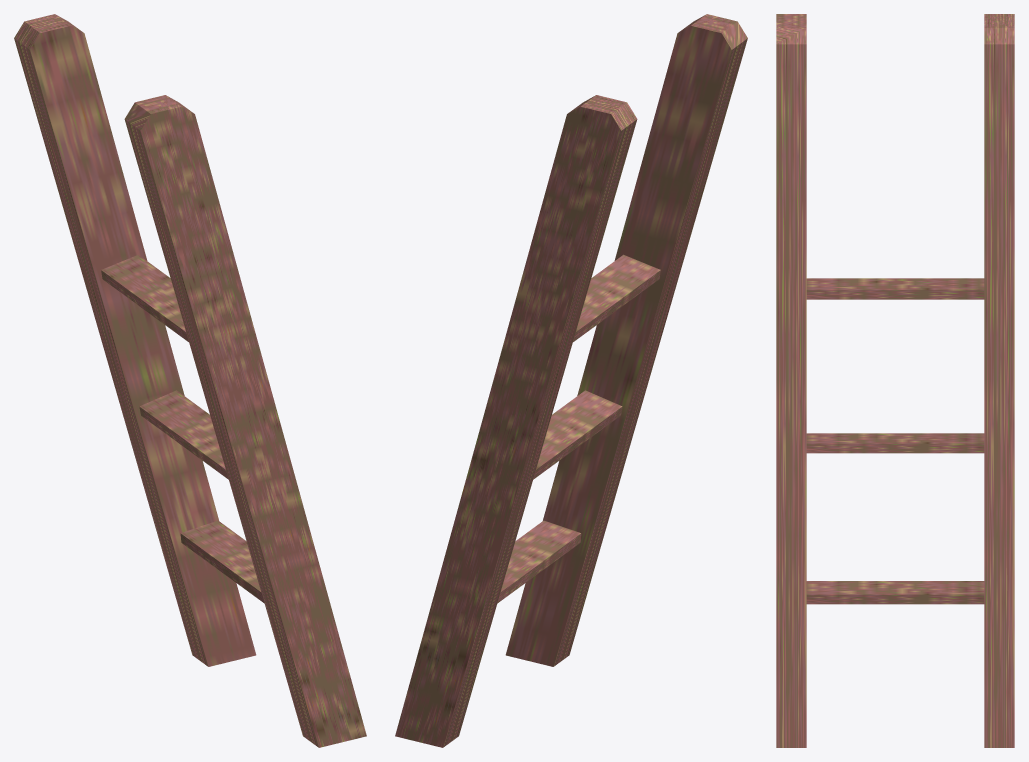
The model's file is LIbrarystairs.fbx.
The picture shows the model from 3 angles, left to right: view 1: azimuth 30°, elevation 25°; view 2: azimuth 150°, elevation 25°; view 3: azimuth 270°, elevation 25°; orthographic projection. The views are drawn at different scales.
Parts seen in each view (by area): view 1: pCube6; view 2: pCube6; view 3: pCube6.
Boxes of the visible parts, left/top/right/bottom form: pCube6: left=14, top=14, right=366, bottom=747; pCube6: left=395, top=14, right=747, bottom=747; pCube6: left=776, top=14, right=1014, bottom=747.
Bounding box in the file's own units: 1.96 × 5.57 × 1.9.
Materials: 1 (1 with a texture image).
